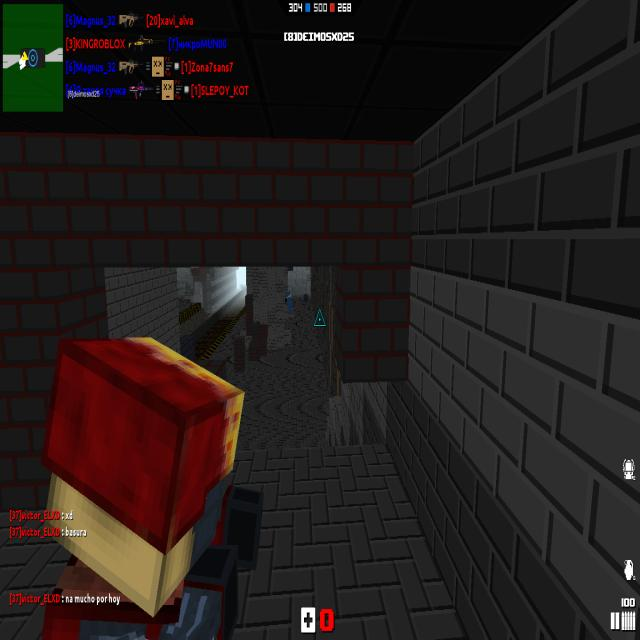enemy: (285, 290, 293, 315)
